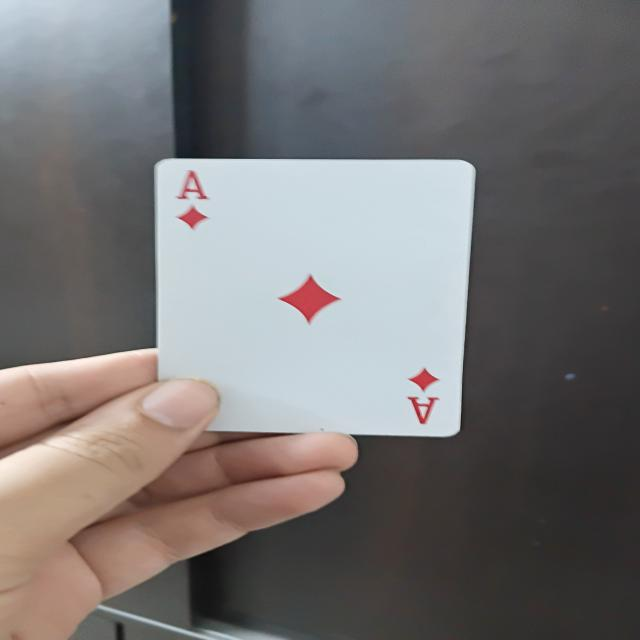AD: (145, 152, 480, 442)
